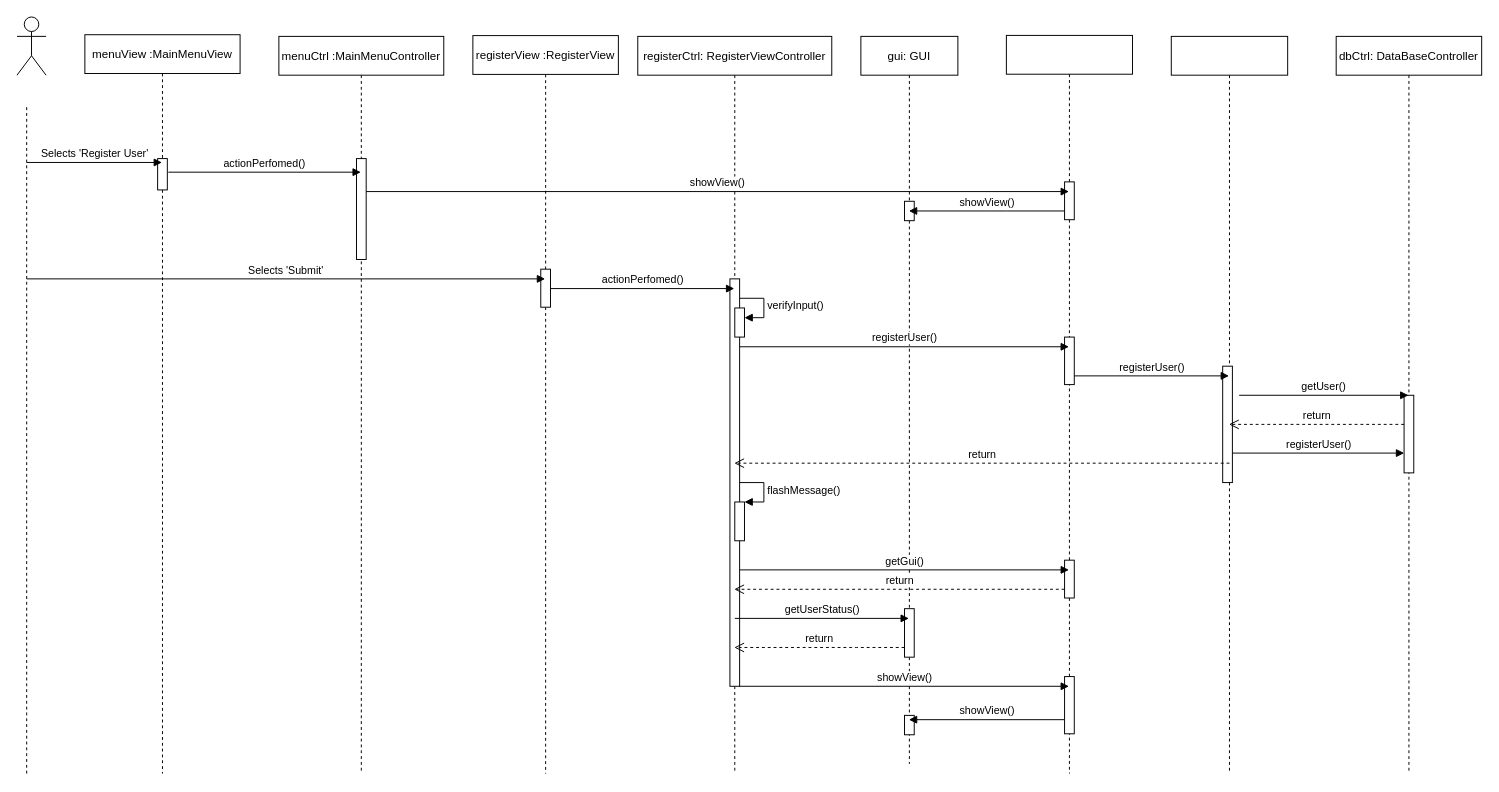
This 1499x792 diagram has some shape labels left out. Here are the shapes that lost their labels. From the top down, the box of each, then its label:
(16, 16, 46, 75): User
(1005, 34, 1132, 774): guiCtrl: GUIController
(1170, 35, 1288, 774): boss: BossController
